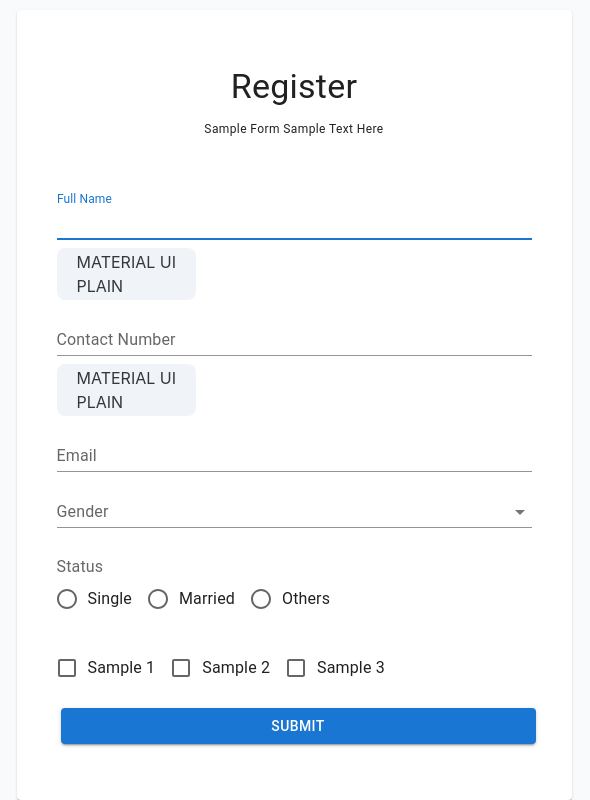
Test case: Submit Form Integration Test › Should display Please enter your full name
This screenshot has width=590, height=800.
(page scrolled)
Step 1. Click the button "SUBMIT" → (298, 726), box [60,708,536,744]
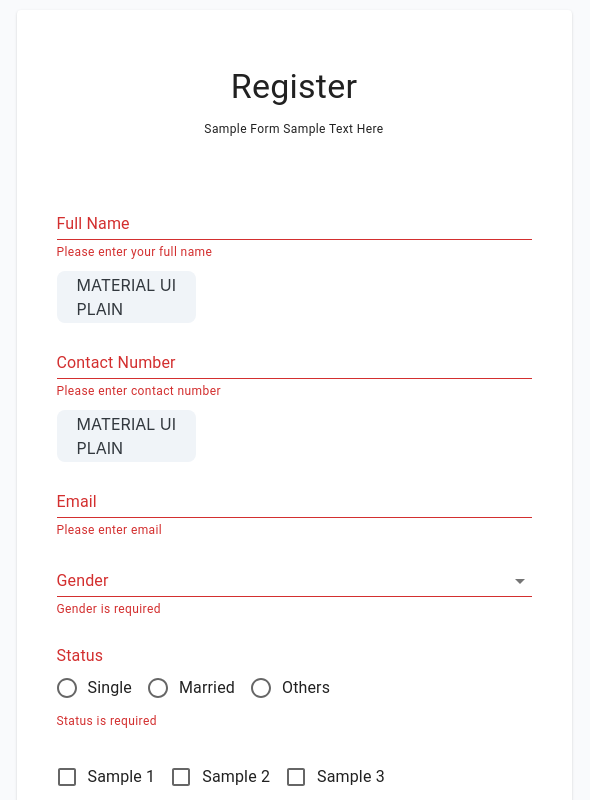
Expected: the text "Please enter your full name" is shown, [56,245,212,259]
